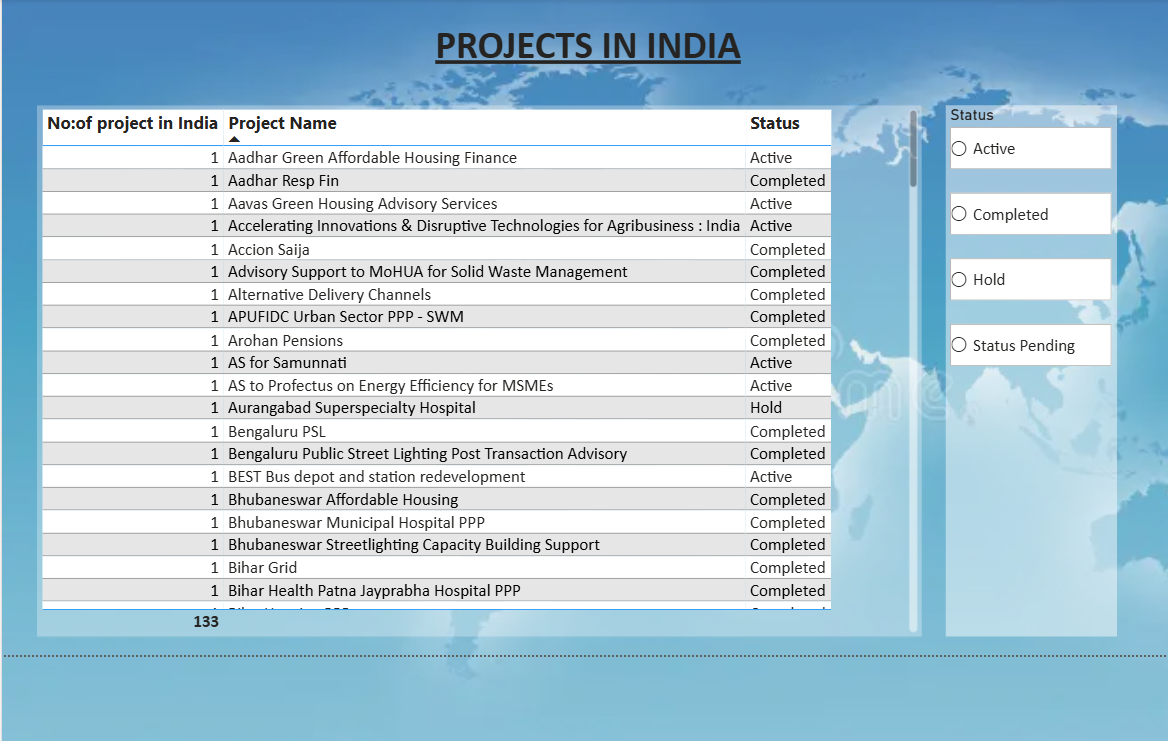

The page's visual inventory and layout, read from the dashboard file:
{"tool":"powerbi","page":{"name":"Page 2","canvas":[1280,720],"ordinal":1},"visuals":[{"type":"tableEx","fields":{"Values":["Cleaned dataset.No:of project in India","Cleaned dataset.Project Name","Cleaned dataset.Status"]},"box":[38.4,116.6,971.5,583.2],"z":0},{"type":"listSlicer","fields":{"Values":["Cleaned dataset.Status"]},"box":[1036,116.6,188,583.2],"z":1000},{"type":"textbox","box":[470.7,19.2,565.4,75.5],"z":2000}]}

Visuals, with their boxes on the page's 1280x720 design canvas (x1, y1, x2, y2). These are canvas units, not pixel positions in the 1168x741 screenshot, which may show the page scaled, cropped or inside an application window:
tableEx - Cleaned dataset.No:of project in India x Cleaned dataset.Project Name: {"left": 38, "top": 117, "right": 1010, "bottom": 700}
listSlicer - Cleaned dataset.Status: {"left": 1036, "top": 117, "right": 1224, "bottom": 700}
textbox: {"left": 471, "top": 19, "right": 1036, "bottom": 95}
